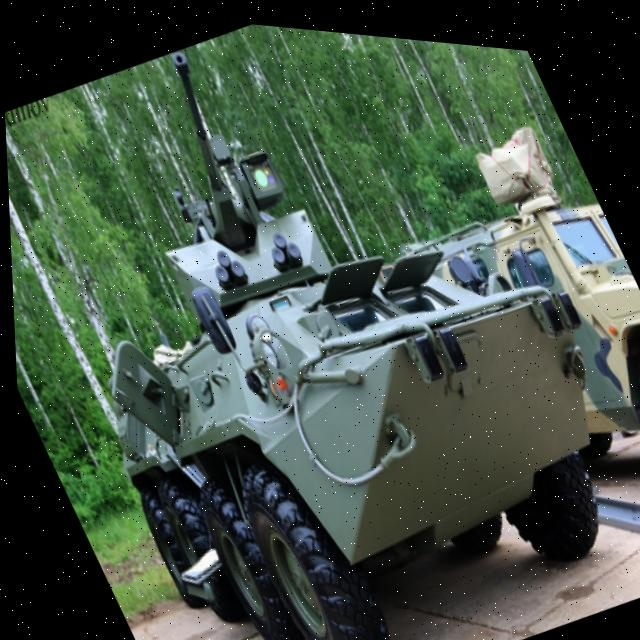MIL_APC: (21, 70, 640, 640)
